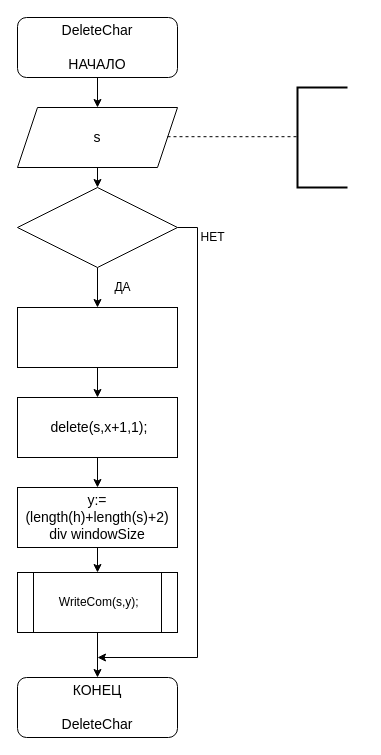
Image size: 381x755. Some labels were removed from this diagram. Each missing label, with the centre of its shape:
"s - строка" goes at [322,137].
"x:=x-1;" goes at [97,337].
"x>=length(h)" goes at [97,227].
